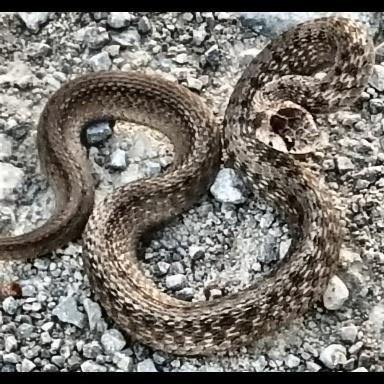snake: (0, 20, 378, 357)
